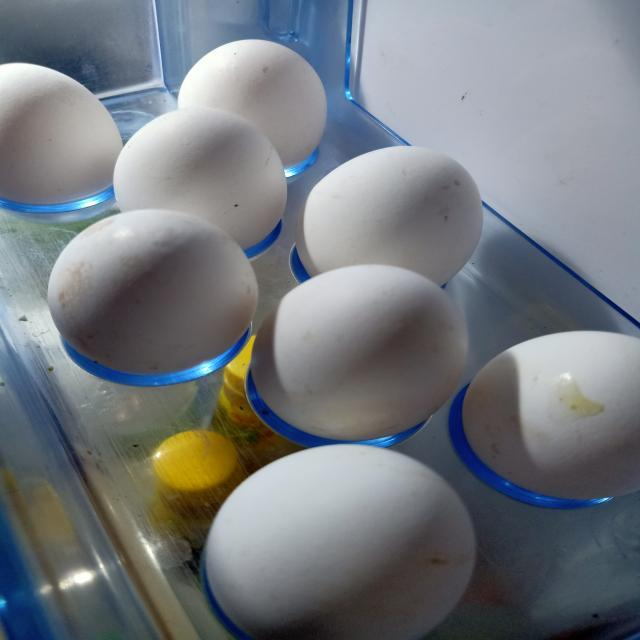Egg: (193, 416, 488, 640), (252, 261, 476, 447), (48, 194, 260, 380), (463, 287, 640, 507), (87, 92, 303, 250), (298, 134, 502, 292)
